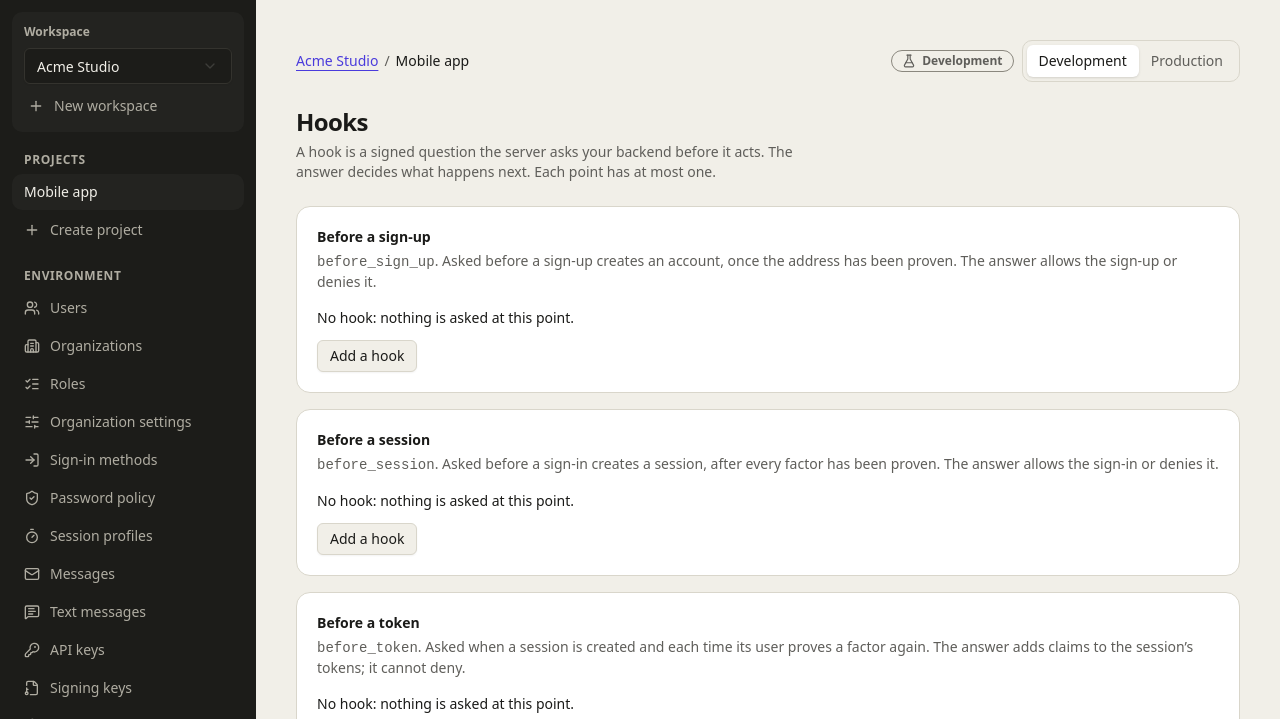
it: adding a hook › the request names the point, the address, the deadline and the mode; the secret is shown once
This screenshot has width=1280, height=719.
Click the button with aria-label "Add a hook for before_sign_up" at point(367, 356), box x1=317 y1=340 x2=417 y2=372
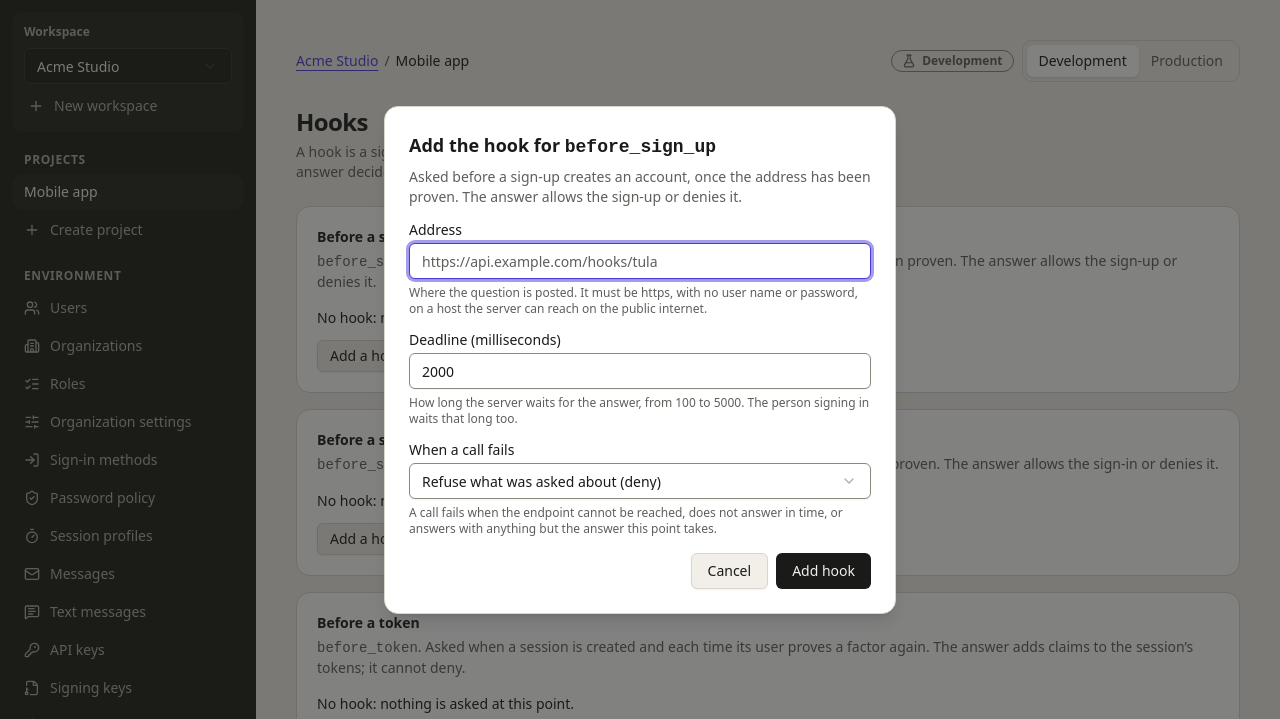
Now the heading reads "Add the hook for before_sign_up", box x1=409 y1=133 x2=716 y2=157
Type "https://api.example.com/hooks/tula/sign-up" into the field labelled "Address" at point(640, 261), box x1=409 y1=243 x2=871 y2=279
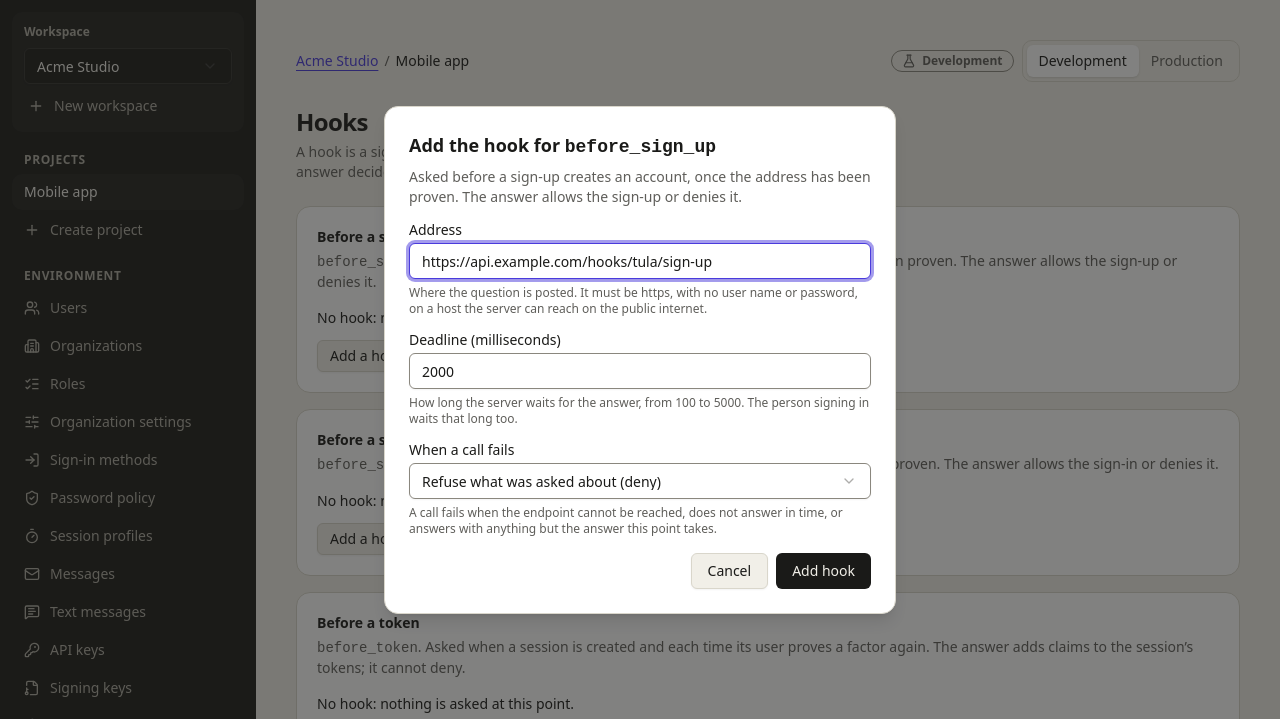
Click the button "Add hook" at point(824, 571), box x1=776 y1=553 x2=871 y2=589
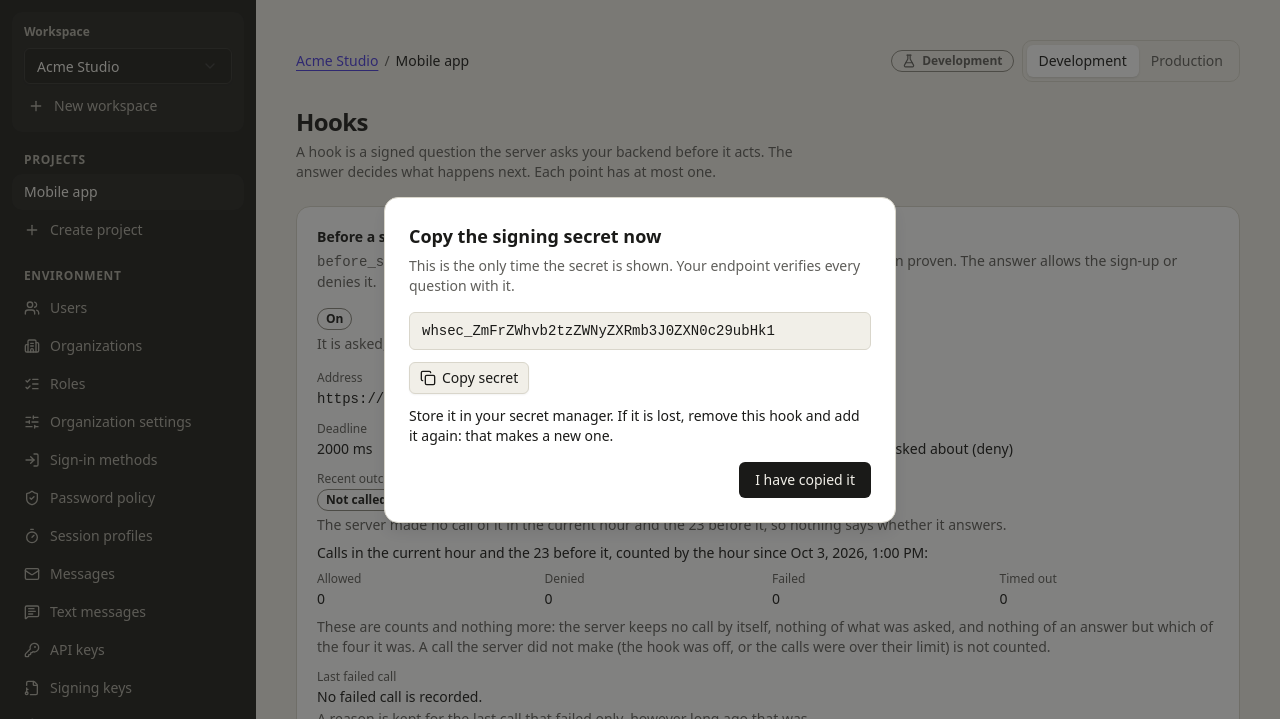
Now the text with test id "hook-secret" reads "whsec_ZmFrZWhvb2tzZWNyZXRmb3J0ZXN0c29ubHk1", box x1=422 y1=323 x2=775 y2=339
Click the button "I have copied it" at point(805, 480), box x1=739 y1=462 x2=871 y2=498
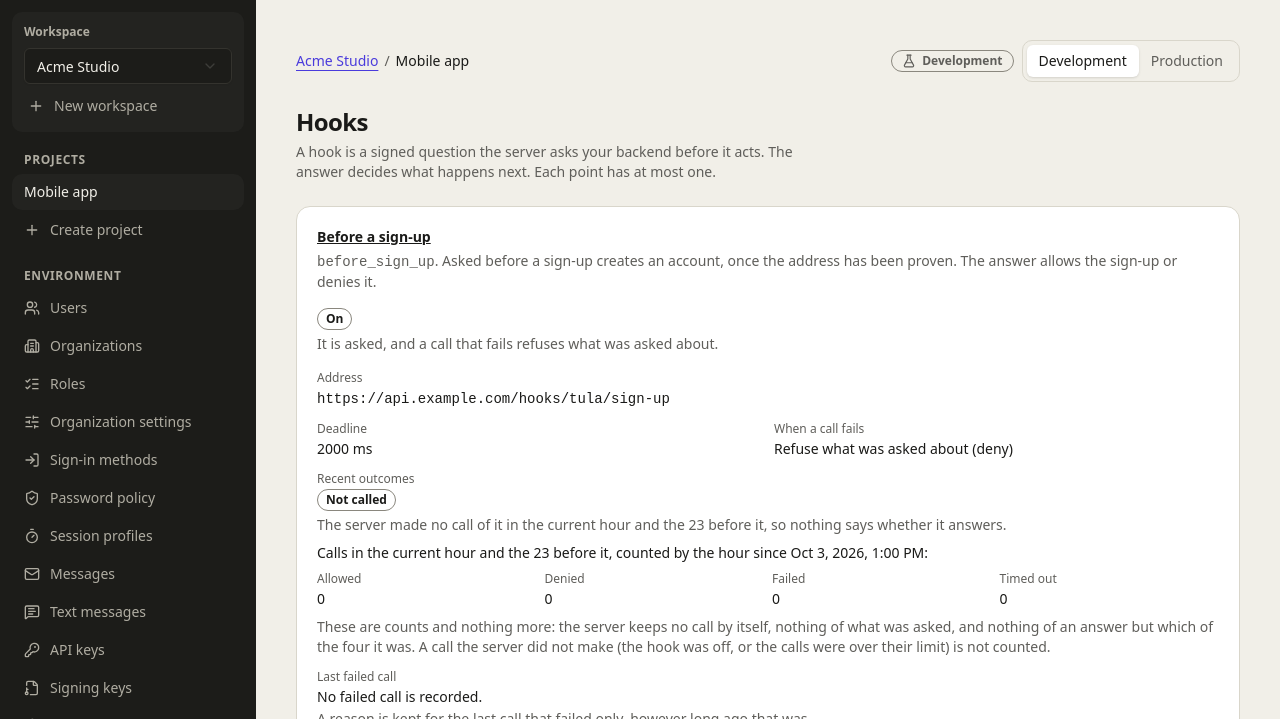
Now the text "https://api.example.com/hooks/tula/sign-up" is shown, box x1=317 y1=391 x2=670 y2=407
// Walk on and back: the secret never comes back.
Click the link "API keys" at point(64, 650), box x1=24 y1=640 x2=105 y2=659
(page scrolled)
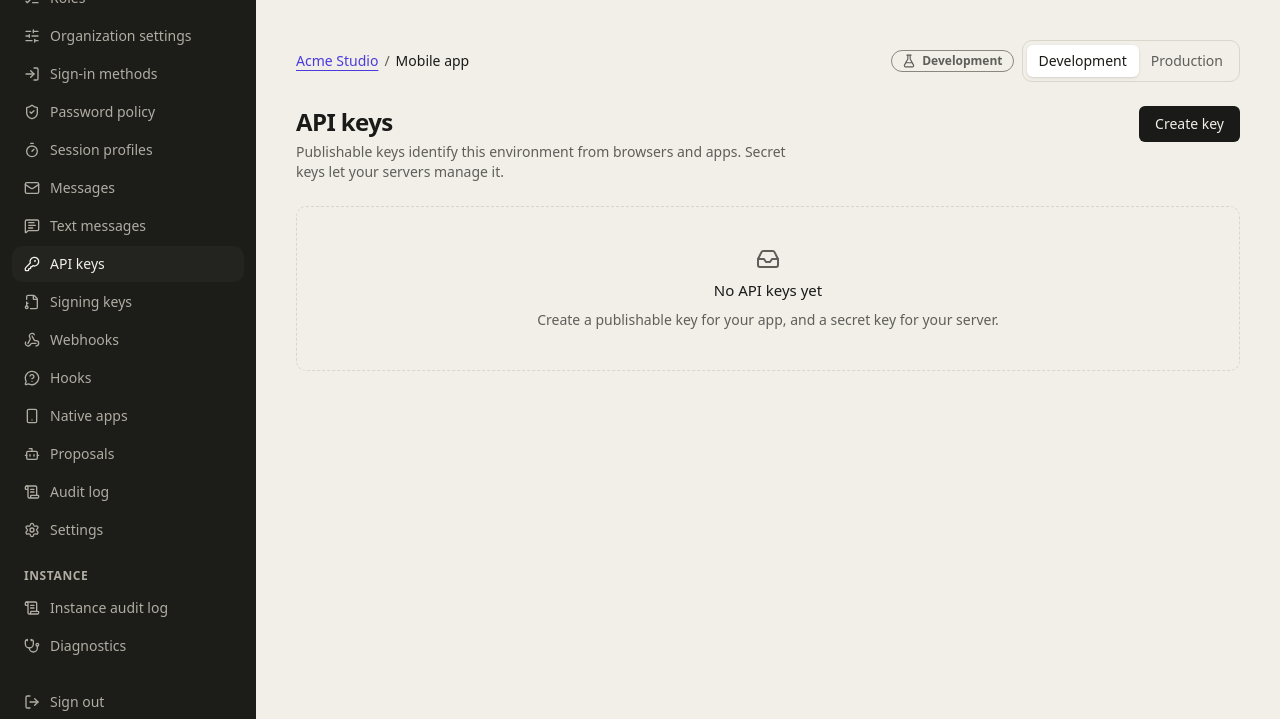
Now the heading "API keys" is shown, box x1=296 y1=105 x2=393 y2=138
Click the link "Hooks" at point(58, 378), box x1=24 y1=368 x2=92 y2=387
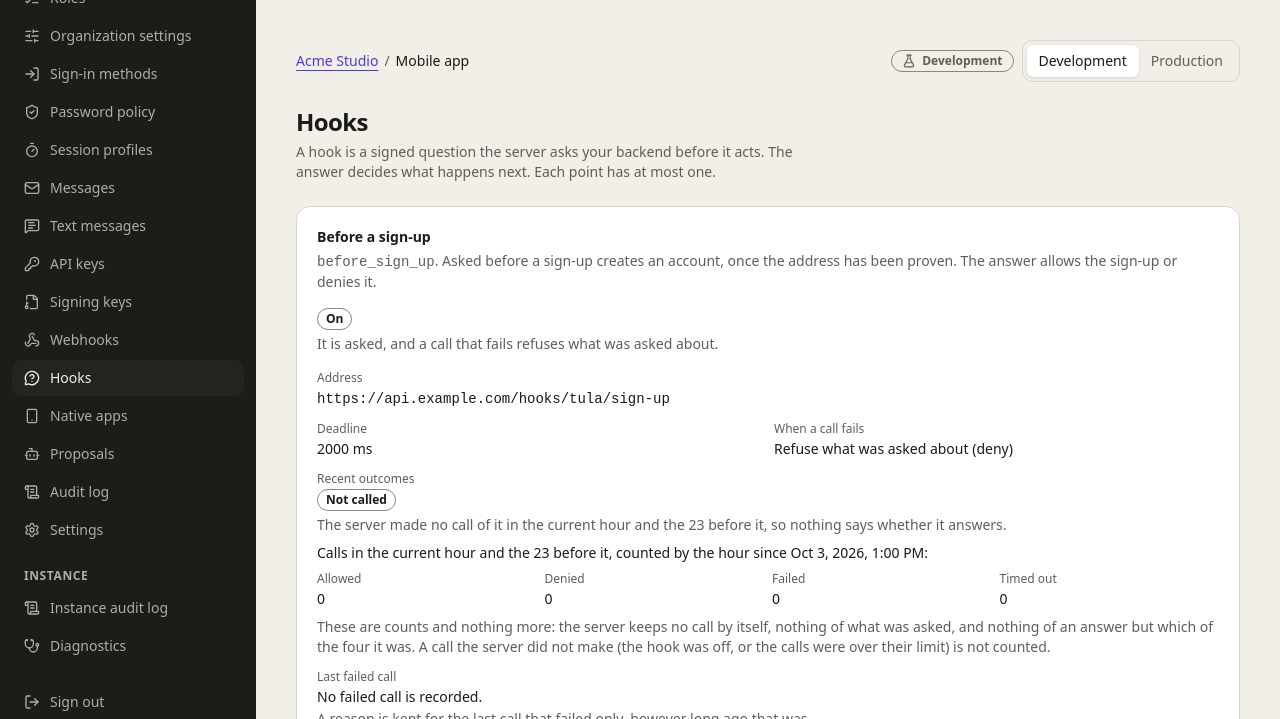
Now the text "https://api.example.com/hooks/tula/sign-up" is shown, box x1=317 y1=391 x2=670 y2=407
